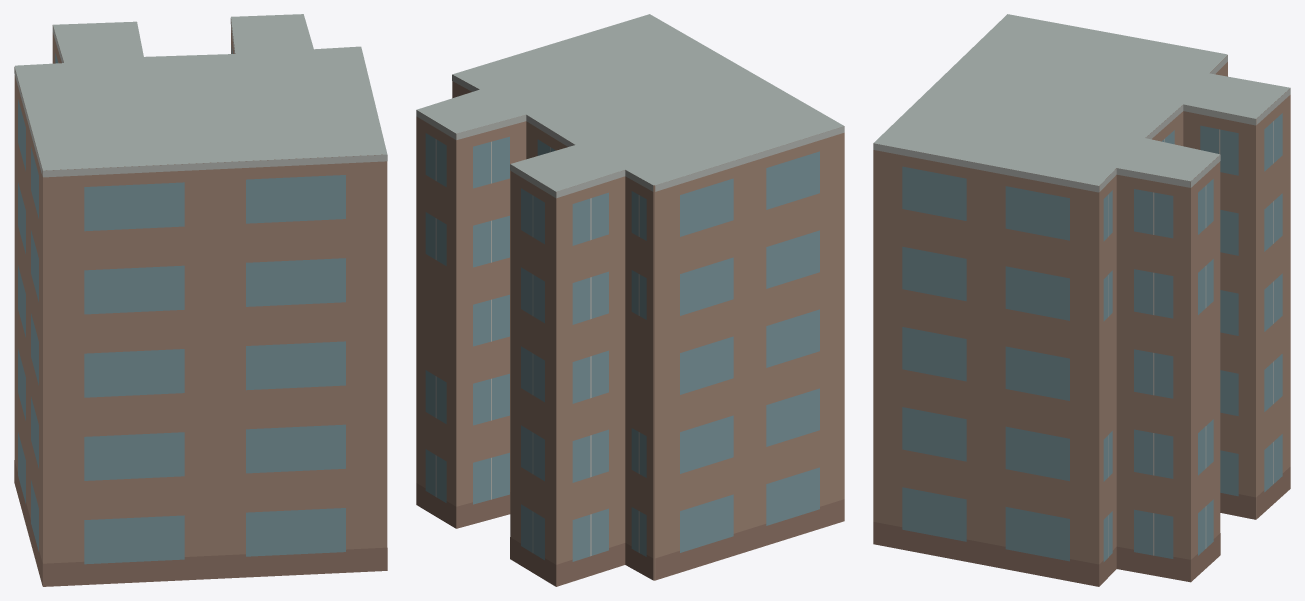
The model's file is survey-upis-33039679.glb.
3 renders of one model, left to right at view 1: azimuth 30°, elevation 25°; view 2: azimuth 150°, elevation 25°; view 3: azimuth 270°, elevation 25°, orthographic. The views are drawn at different scales.
Visible parts, largest first — view 1: survey-upis-33039679.tmp; view 2: survey-upis-33039679.tmp; view 3: survey-upis-33039679.tmp.
Boxes of the visible parts, box(x1,y1,x2,y2) form: survey-upis-33039679.tmp: box(14, 14, 387, 586); survey-upis-33039679.tmp: box(416, 14, 844, 586); survey-upis-33039679.tmp: box(873, 14, 1290, 586).
Size of the model in its own units: 13.63 by 14.8 by 13.97.
